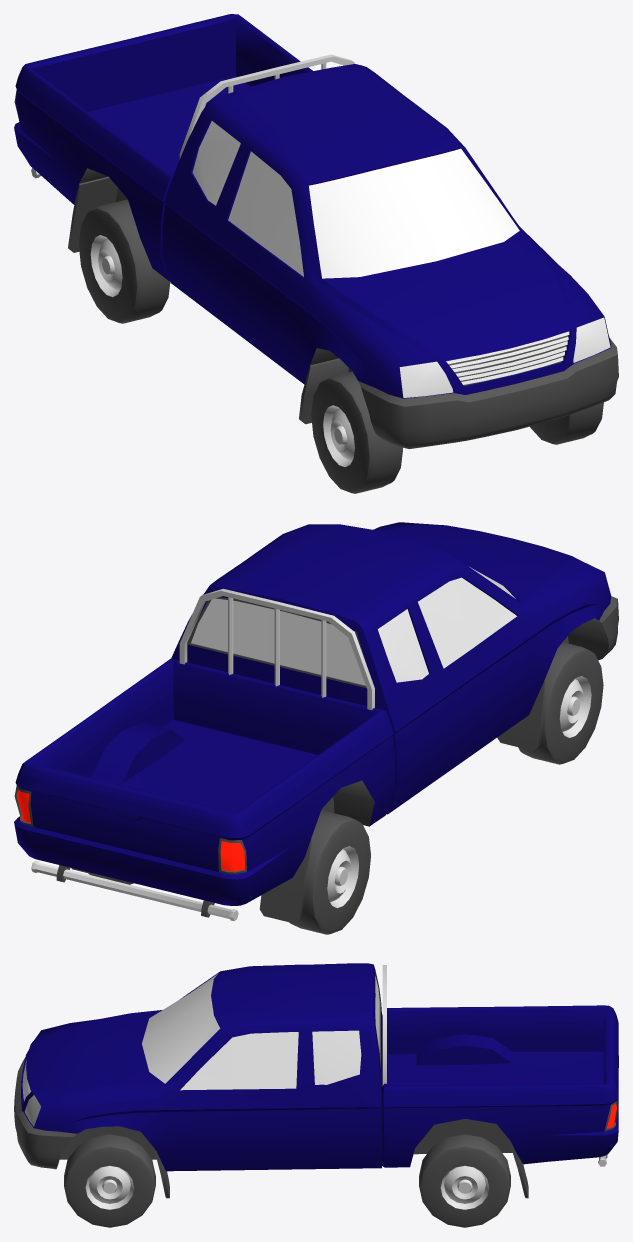
The model's file is truck.fbx.
The picture shows the model from 3 angles, top to bottom: view 1: azimuth 30°, elevation 25°; view 2: azimuth 150°, elevation 25°; view 3: azimuth 270°, elevation 25°; orthographic projection. The views are drawn at different scales.
Visible parts, largest first — view 1: Chassis, Tire_RR, Tire_FR, Tire_FL; view 2: Chassis, Tire_RR, Tire_FR; view 3: Chassis, Tire_RL, Tire_FL.
Part boxes in pixels (<box>): Chassis: <box>14,14,618,448</box>; Tire_RR: <box>78,199,170,323</box>; Tire_FR: <box>311,371,402,493</box>; Tire_FL: <box>530,402,603,444</box>; Chassis: <box>14,522,618,923</box>; Tire_RR: <box>289,810,370,934</box>; Tire_FR: <box>518,642,603,764</box>; Chassis: <box>14,963,618,1198</box>; Tire_RL: <box>419,1134,510,1227</box>; Tire_FL: <box>64,1134,155,1227</box>.
Size of the model in its own units: 1.21 by 1.24 by 3.41.
